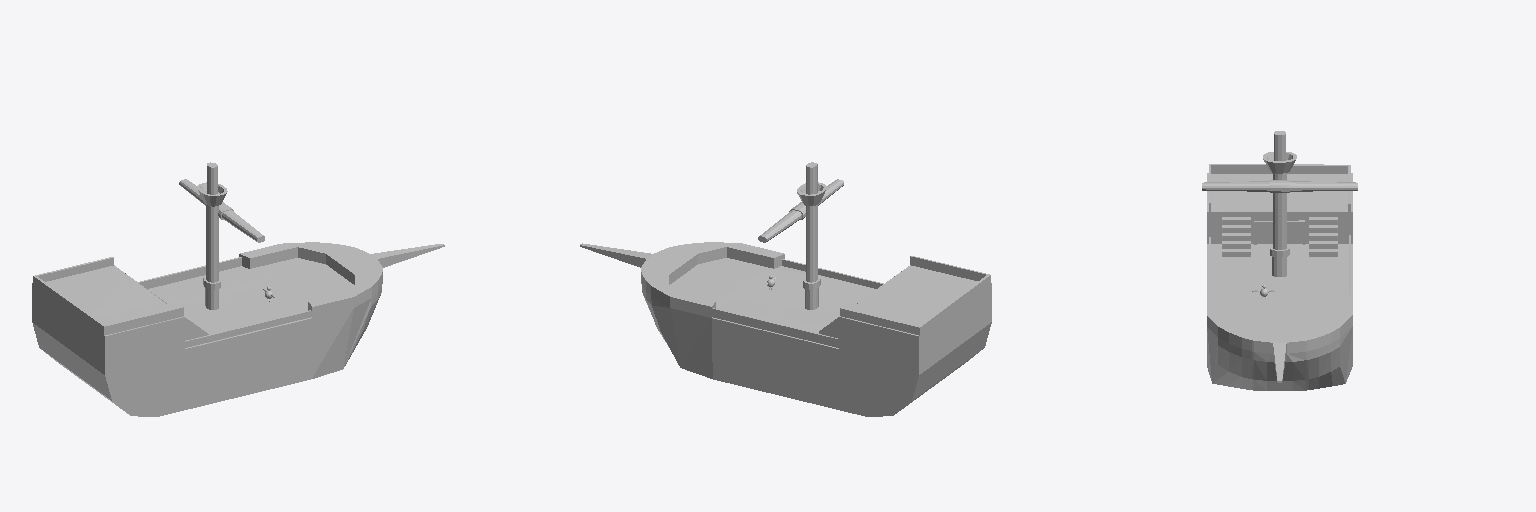
Rendered from navio_pequeno.obj.
3 renders of one model, left to right at view 1: azimuth 30°, elevation 25°; view 2: azimuth 150°, elevation 25°; view 3: azimuth 270°, elevation 25°, orthographic.
Parts seen in each view (by area): view 1: Plane; view 2: Plane; view 3: Plane.
Boxes of the visible parts, x1=… form: Plane: x1=32, y1=162, x2=444, y2=416; Plane: x1=580, y1=162, x2=991, y2=416; Plane: x1=1202, y1=131, x2=1357, y2=390.
Bounding box in the file's own units: 42.49 × 22.02 × 15.27.